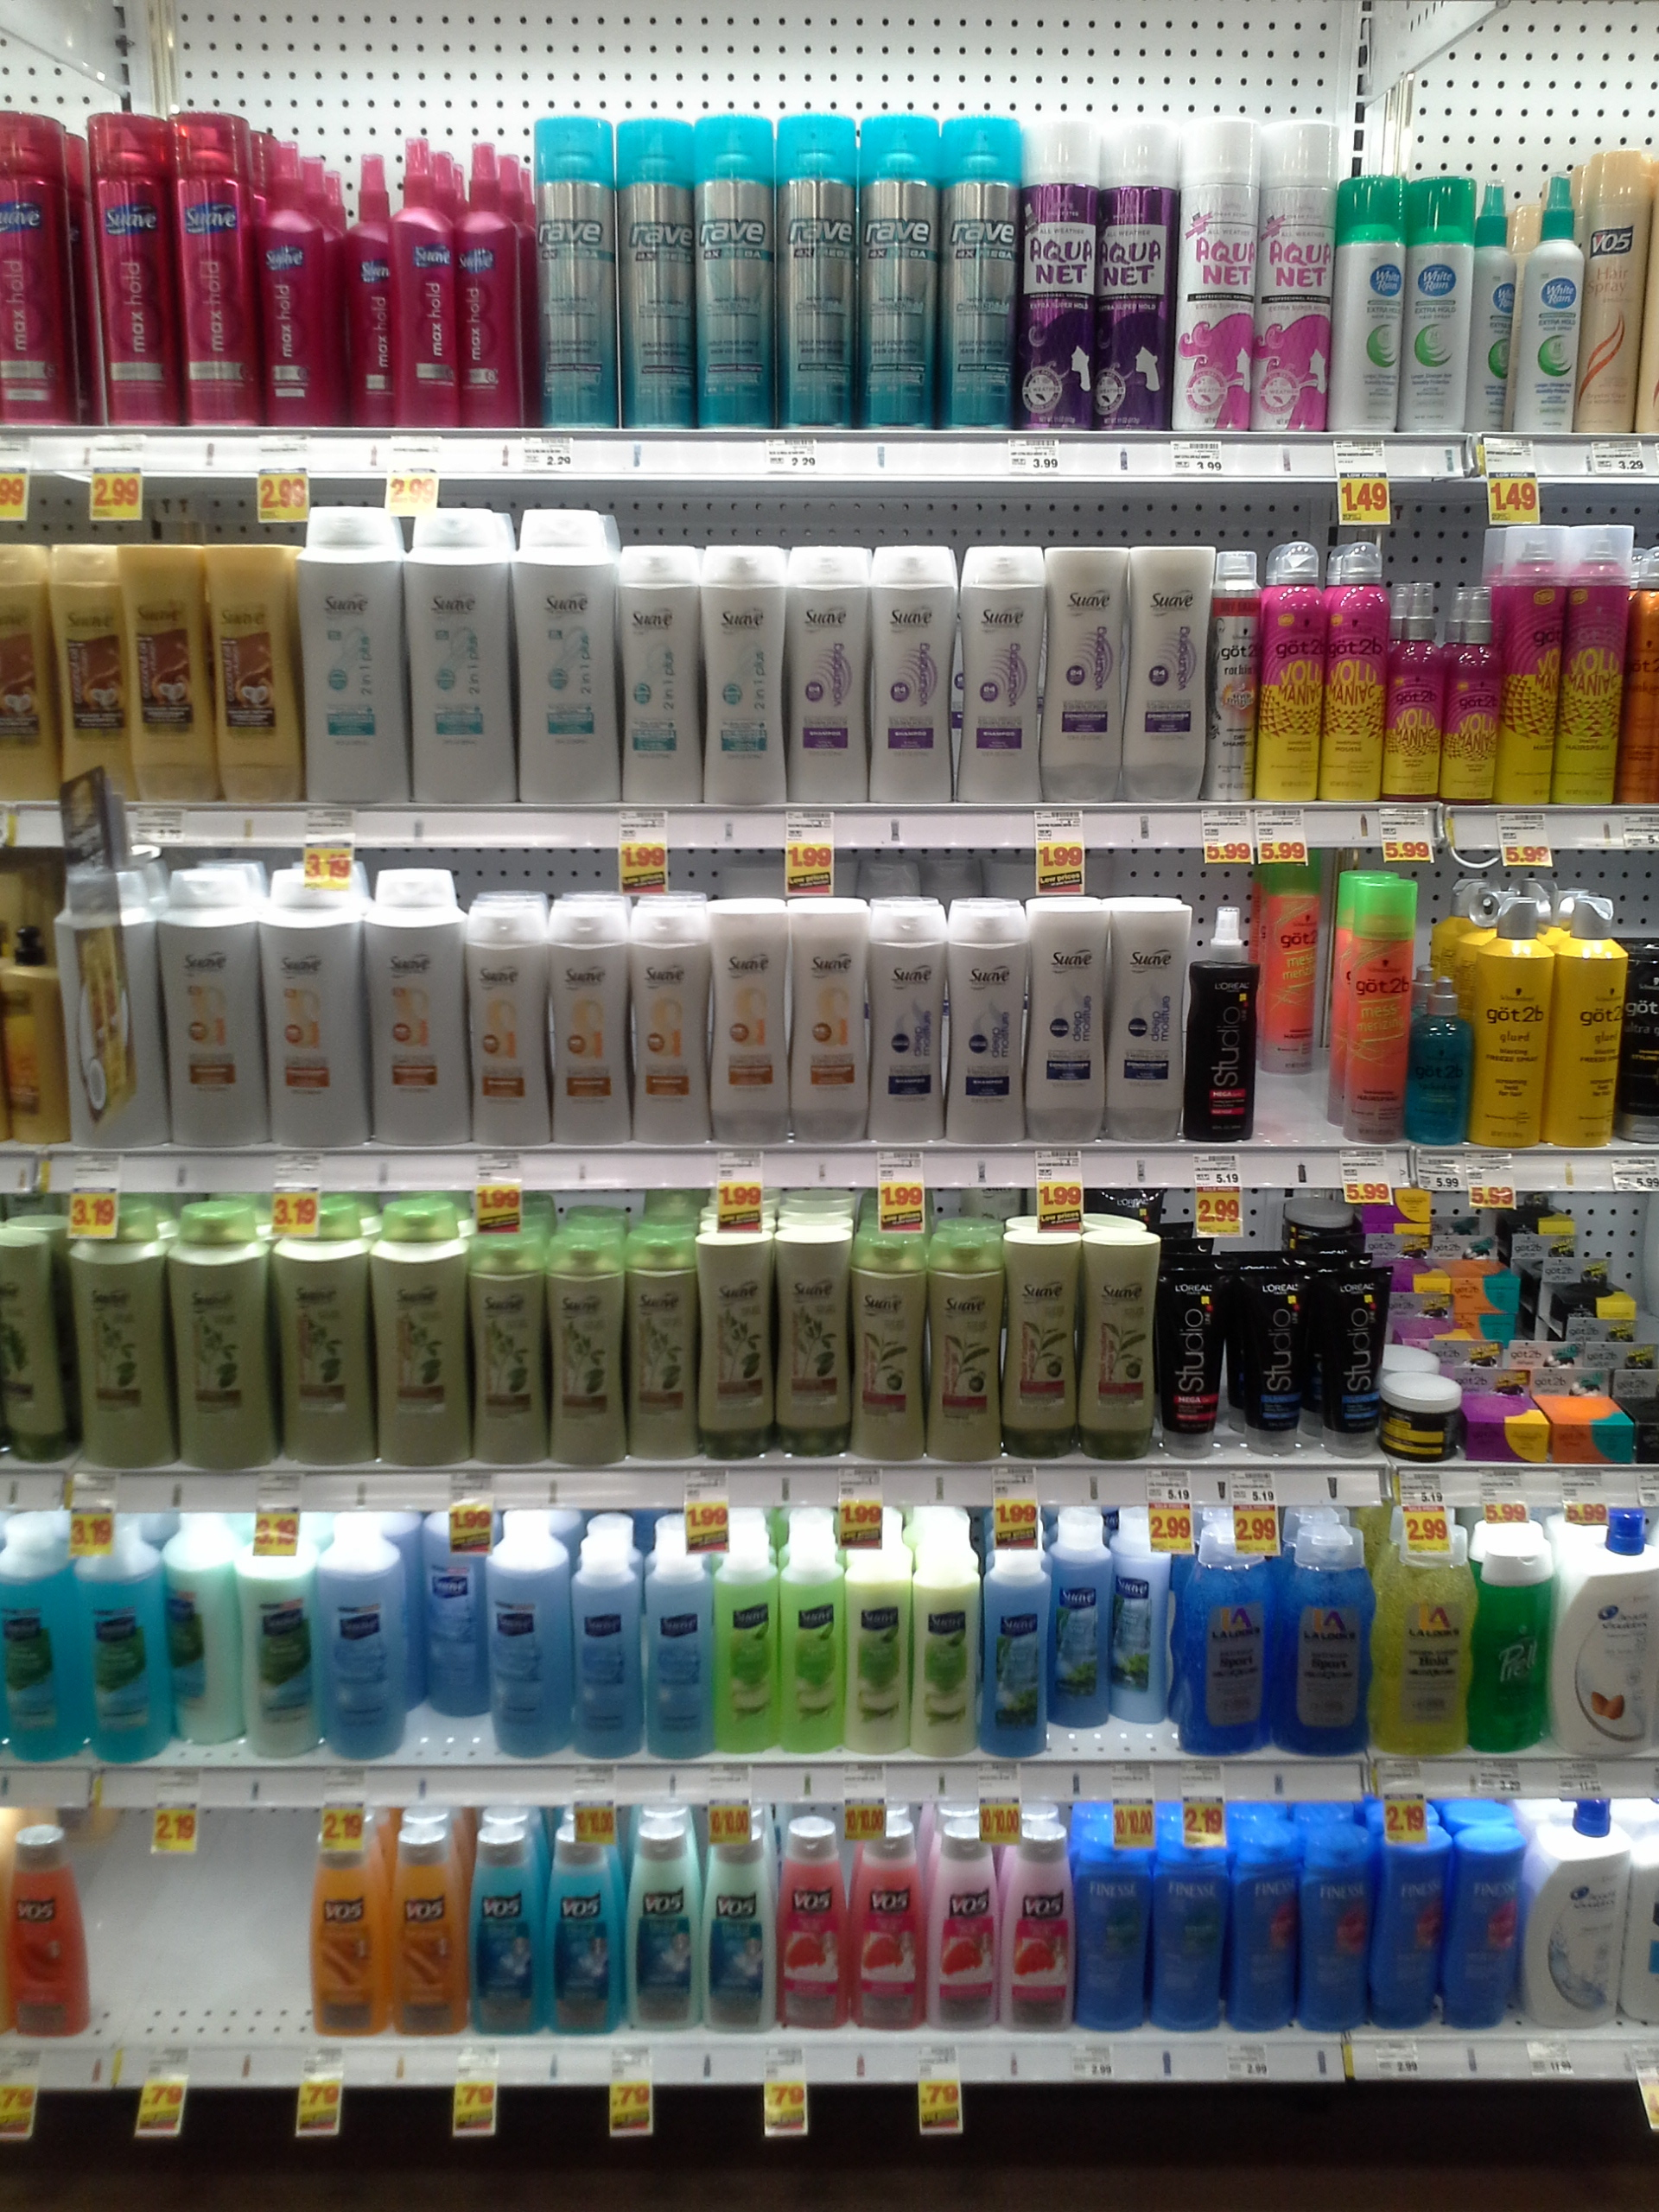Misplacement: (1053, 1507, 1114, 1764)
Out-of-stock: (92, 1810, 307, 2087)
